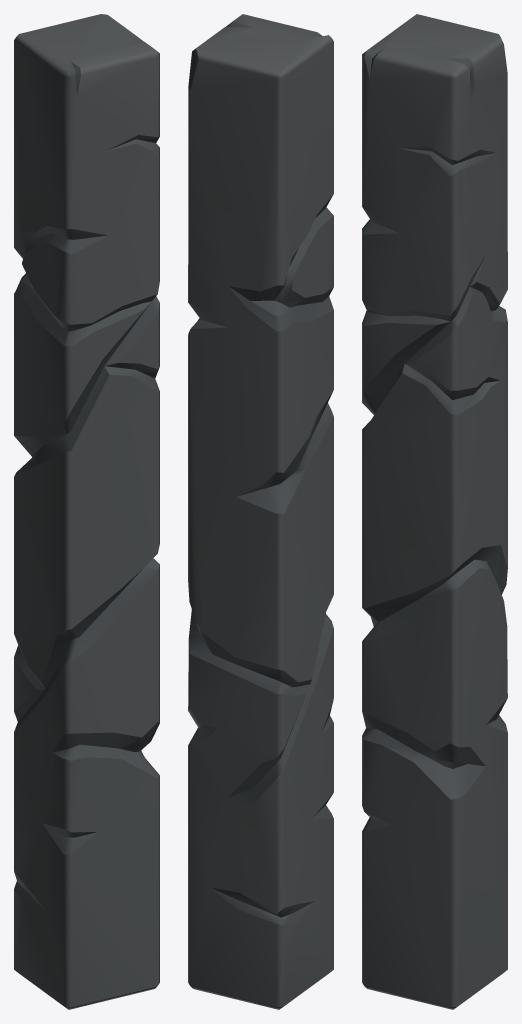
File: pillar_004.glb
3 renders of one model, left to right at view 1: azimuth 30°, elevation 25°; view 2: azimuth 150°, elevation 25°; view 3: azimuth 330°, elevation 25°, orthographic.
Visible parts, largest first — view 1: pillar_004; view 2: pillar_004; view 3: pillar_004.
Boxes of the visible parts, x1,y1,x2,y2 form: pillar_004: (14, 14, 159, 1009); pillar_004: (188, 14, 333, 1009); pillar_004: (362, 14, 507, 1009).
Size of the model in its own units: 2 by 18.69 by 2.
Materials: 1 (1 with a texture image).
